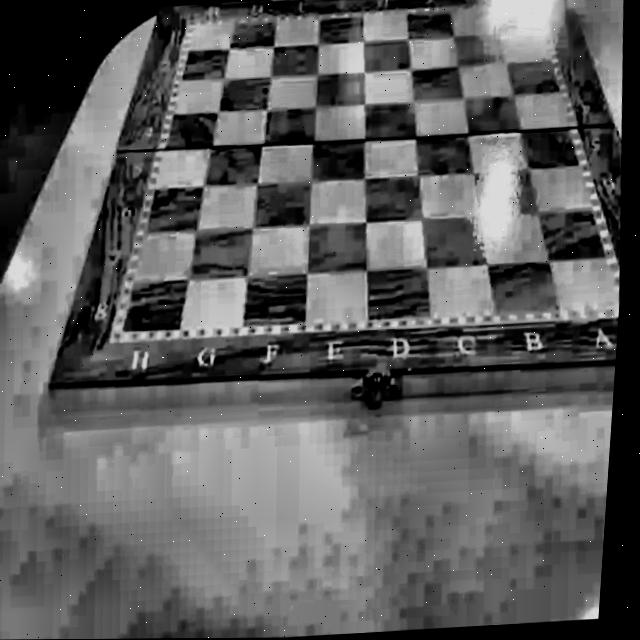chessboard: (107, 0, 620, 343)
p1: (536, 0, 541, 11)
p2: (608, 294, 620, 309)
p3: (118, 317, 134, 336)
p4: (189, 18, 203, 32)
